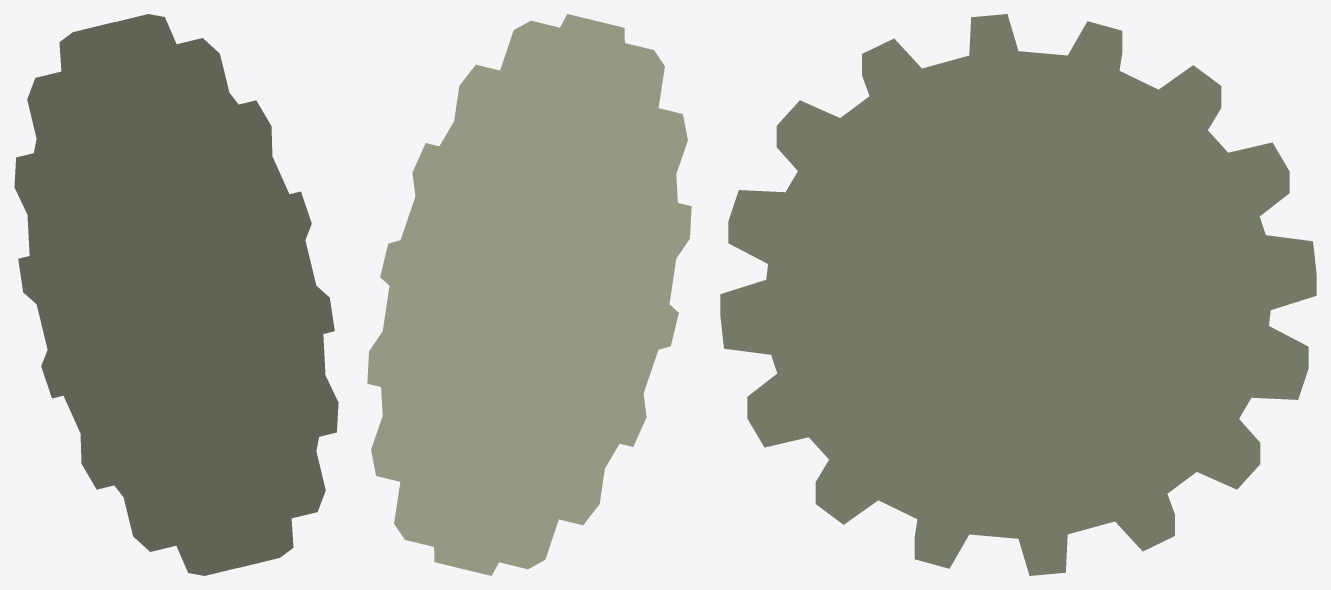
The model's file is gear1.dae.
3 renders of one model, left to right at view 1: azimuth 30°, elevation 25°; view 2: azimuth 150°, elevation 25°; view 3: azimuth 270°, elevation 25°, orthographic. The views are drawn at different scales.
Parts seen in each view (by area): view 1: Gear2-0; view 2: Gear2-0; view 3: Gear2-0.
Part boxes in pixels (left/top/right/bottom): Gear2-0: left=14, top=14, right=338, bottom=575; Gear2-0: left=367, top=14, right=691, bottom=575; Gear2-0: left=720, top=14, right=1316, bottom=575.
Bounding box in the file's own units: 103 × 846 × 846.
